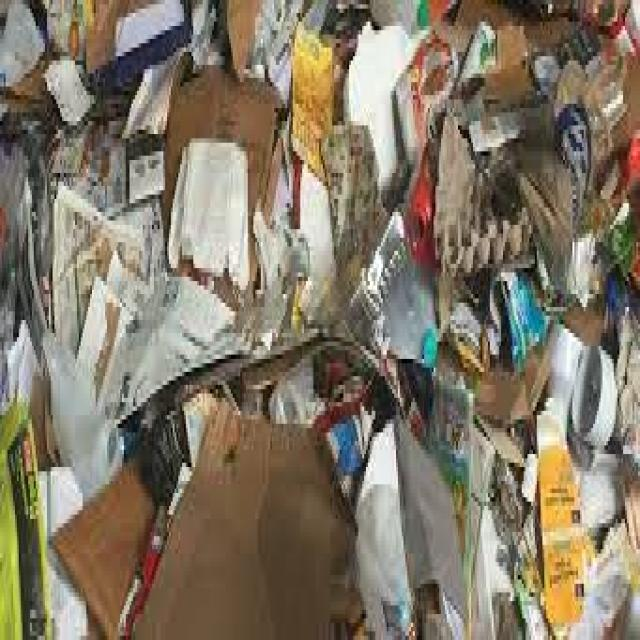cardboard: (51, 406, 370, 632), (172, 65, 278, 186), (436, 130, 528, 268)
paper: (39, 152, 169, 394), (529, 437, 614, 640)
plastic: (388, 273, 473, 402)
